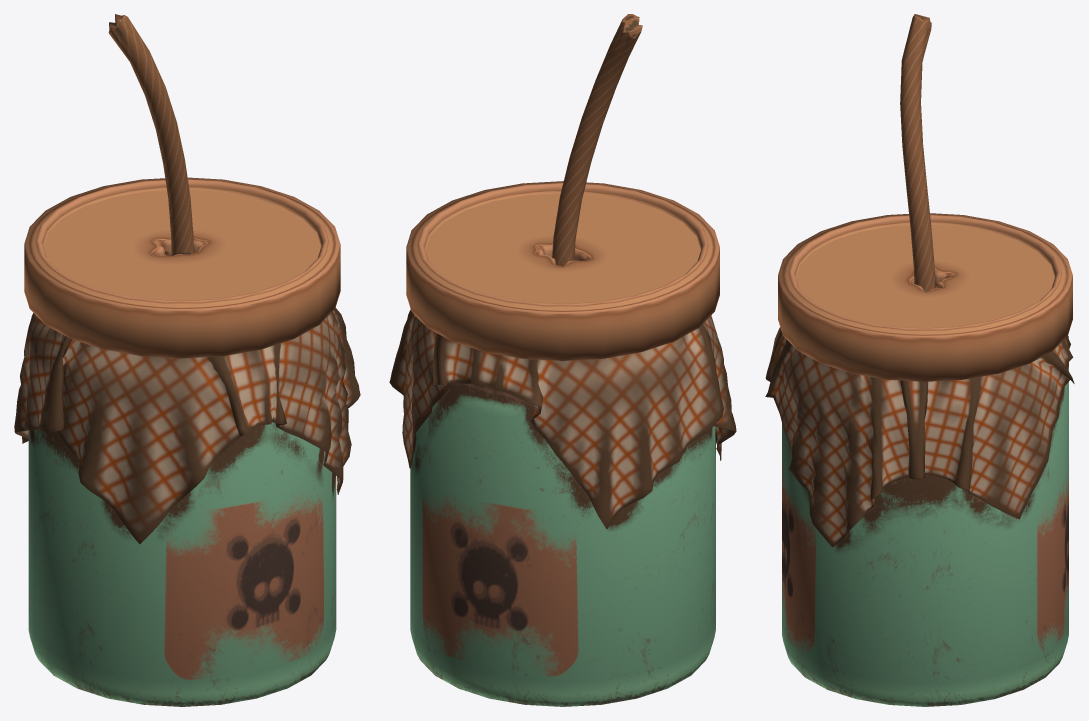
Rendered from Trap.fbx.
3 renders of one model, left to right at view 1: azimuth 30°, elevation 25°; view 2: azimuth 150°, elevation 25°; view 3: azimuth 270°, elevation 25°, orthographic. The views are drawn at different scales.
Visible parts, largest first — view 1: jar.trap_low; view 2: jar.trap_low; view 3: jar.trap_low.
Boxes of the visible parts, x1=… form: jar.trap_low: x1=14, y1=14, x2=360, y2=706; jar.trap_low: x1=389, y1=14, x2=736, y2=706; jar.trap_low: x1=765, y1=14, x2=1074, y2=706.
Size of the model in its own units: 80.81 by 164 by 75.75.
